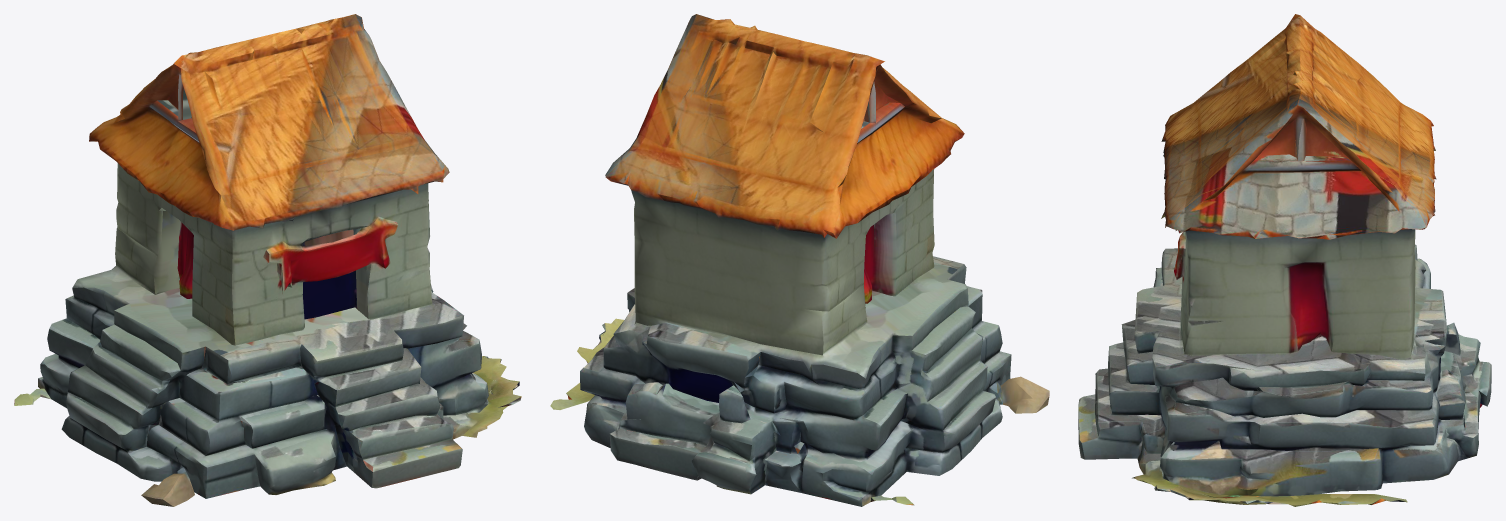
File: tawantinsuyu_almacen_mina.glb
3 renders of one model, left to right at view 1: azimuth 30°, elevation 25°; view 2: azimuth 150°, elevation 25°; view 3: azimuth 270°, elevation 25°, orthographic. The views are drawn at different scales.
Visible parts, largest first — view 1: geometry_0; view 2: geometry_0; view 3: geometry_0.
Part boxes in pixels (<box>): geometry_0: <box>14,14,521,506</box>; geometry_0: <box>550,14,1049,506</box>; geometry_0: <box>1078,14,1491,506</box>.
Bounding box in the file's own units: 1.4 × 1.25 × 1.29.
Materials: 1 (1 with a texture image).
